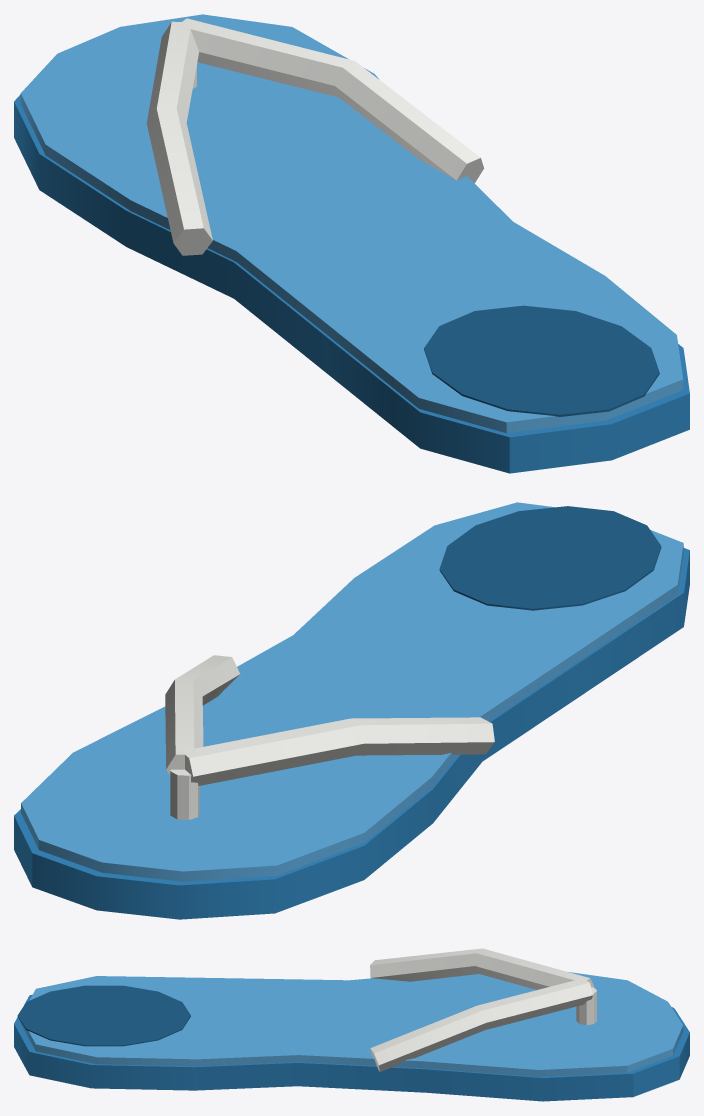
File: flip_flop.glb
3 views of the same model, one above another, from view 1: azimuth 30°, elevation 25°; view 2: azimuth 150°, elevation 25°; view 3: azimuth 270°, elevation 25° (orthographic). The views are drawn at different scales.
Visible parts, largest first — view 1: flip_flop; view 2: flip_flop; view 3: flip_flop.
Part boxes in pixels (x1,y1,x2,y2): flip_flop: [14, 14, 689, 473]; flip_flop: [14, 502, 689, 919]; flip_flop: [14, 948, 689, 1101].
Size of the model in its own units: 0.0936 by 0.03 by 0.2592.
